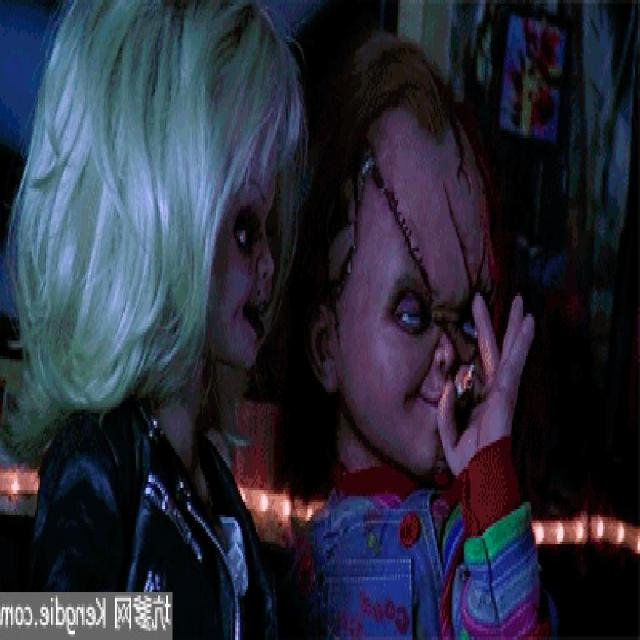smoking: (360, 119, 500, 473)
